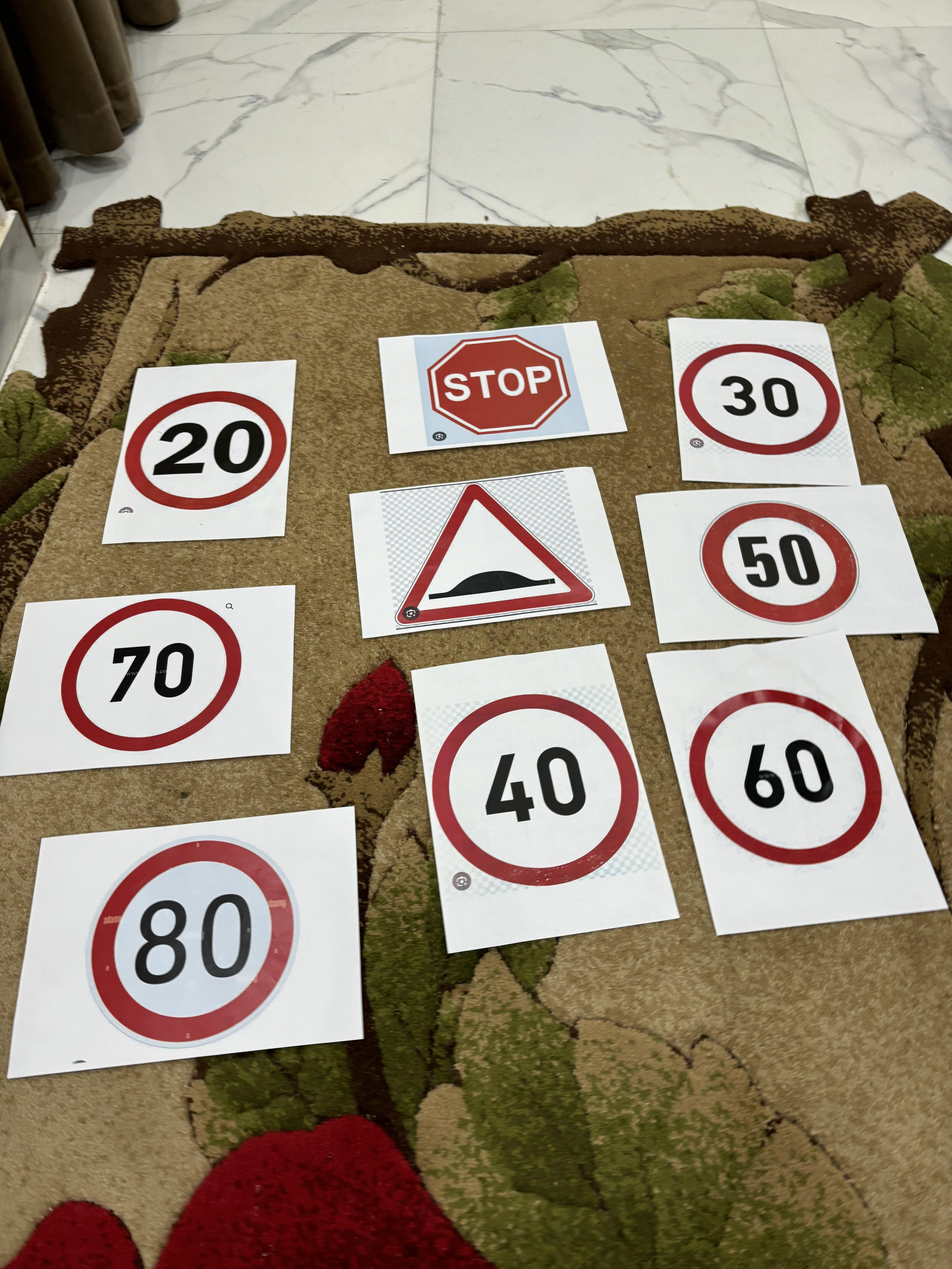20-Speed: (123, 385, 292, 511)
30-speed: (678, 345, 847, 458)
40-Speed: (431, 687, 643, 890)
50-Speed: (701, 500, 865, 623)
60-Speed: (685, 687, 887, 870)
70-Speed: (54, 594, 252, 757)
80-Speed: (83, 836, 309, 1045)
Hump: (395, 487, 594, 629)
Stop: (417, 331, 592, 440)
